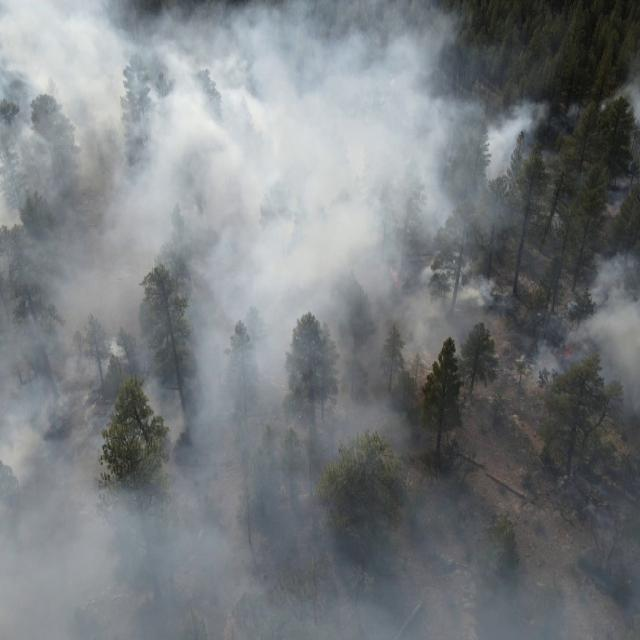fire: (556, 332, 588, 363)
smoke: (0, 0, 424, 640), (425, 412, 640, 640), (424, 2, 556, 336), (557, 247, 640, 416), (456, 335, 557, 413), (555, 163, 640, 214), (559, 83, 640, 122)
